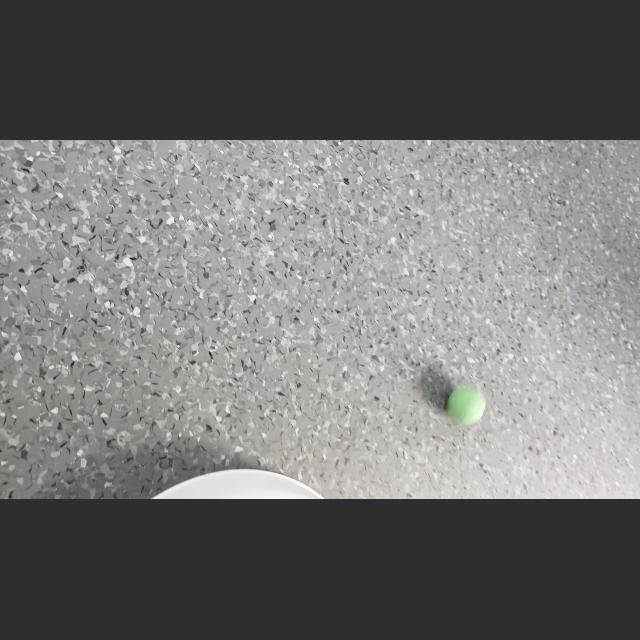objects: (444, 382, 490, 428)
